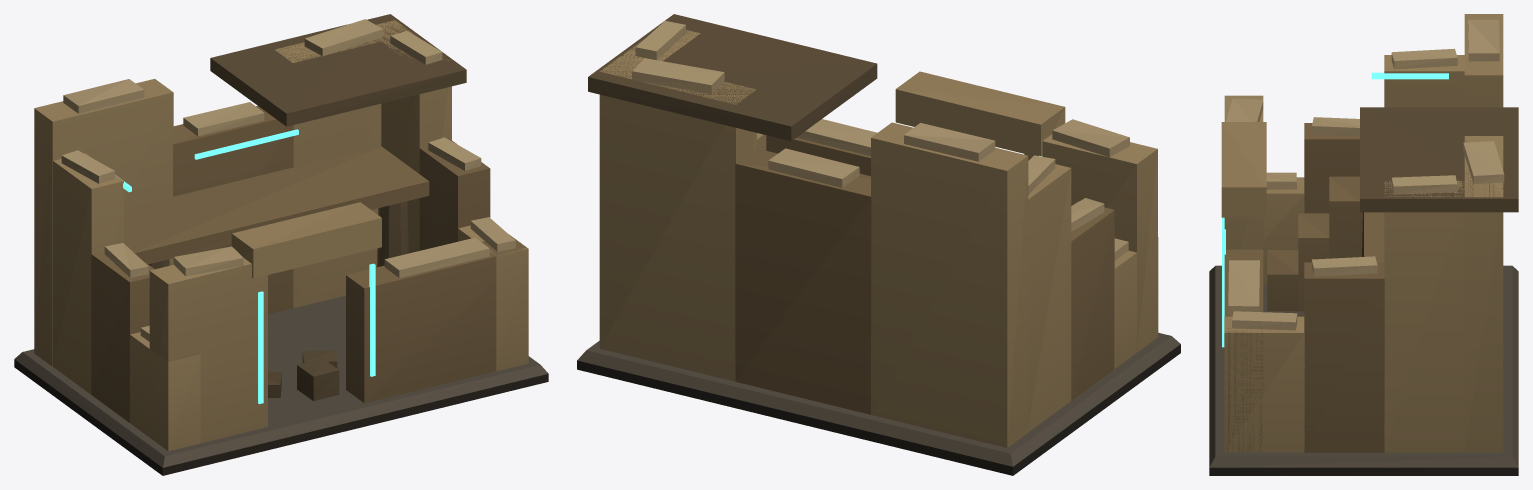
File: temple-stepped-platform.glb
The picture shows the model from 3 angles, left to right: view 1: azimuth 30°, elevation 25°; view 2: azimuth 150°, elevation 25°; view 3: azimuth 270°, elevation 25°; orthographic projection. The views are drawn at different scales.
Bounding box in the file's own units: 6 × 4 × 4.
